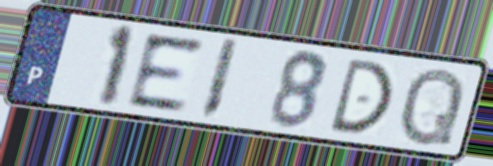1: (94, 22, 137, 108)
8: (266, 48, 329, 131)
D: (325, 56, 395, 136)
E: (125, 31, 207, 113)
I: (196, 36, 242, 123)
Q: (396, 64, 468, 148)
